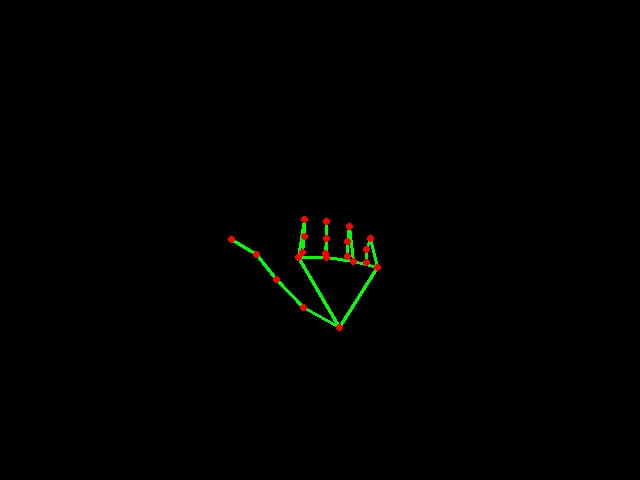right: (214, 208, 390, 338)
